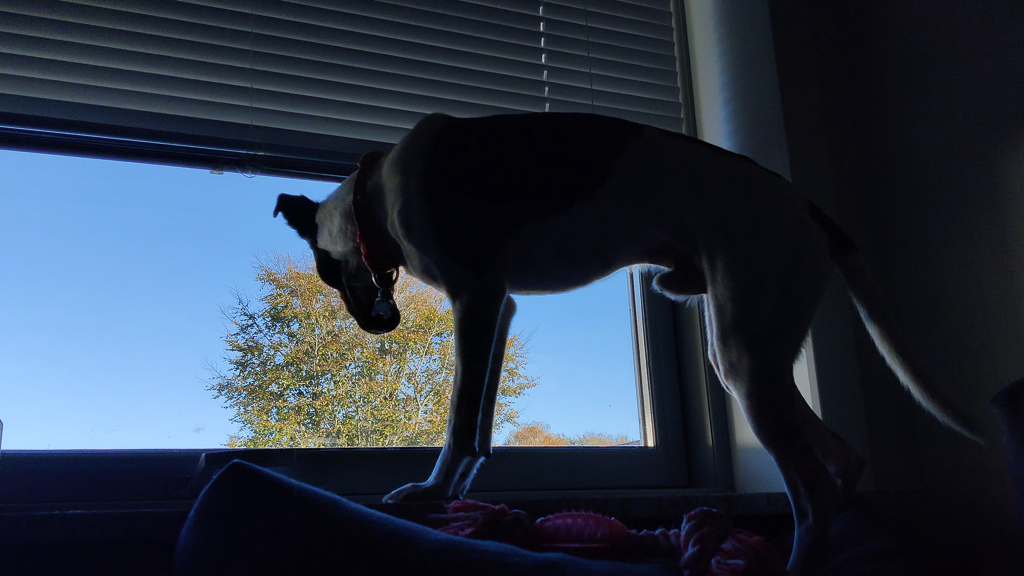Dog: (255, 97, 1024, 576)
